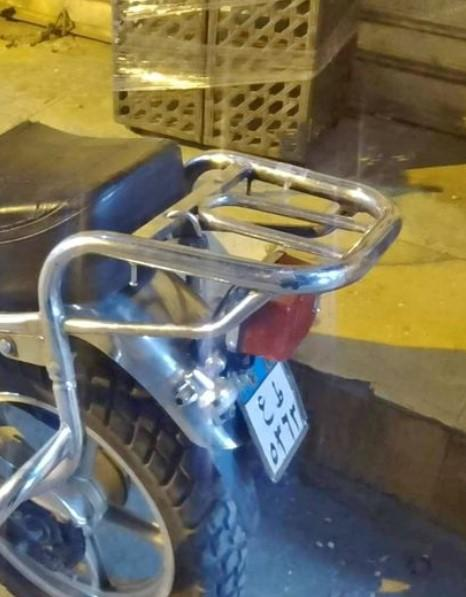License Plate: (233, 368, 313, 484)
